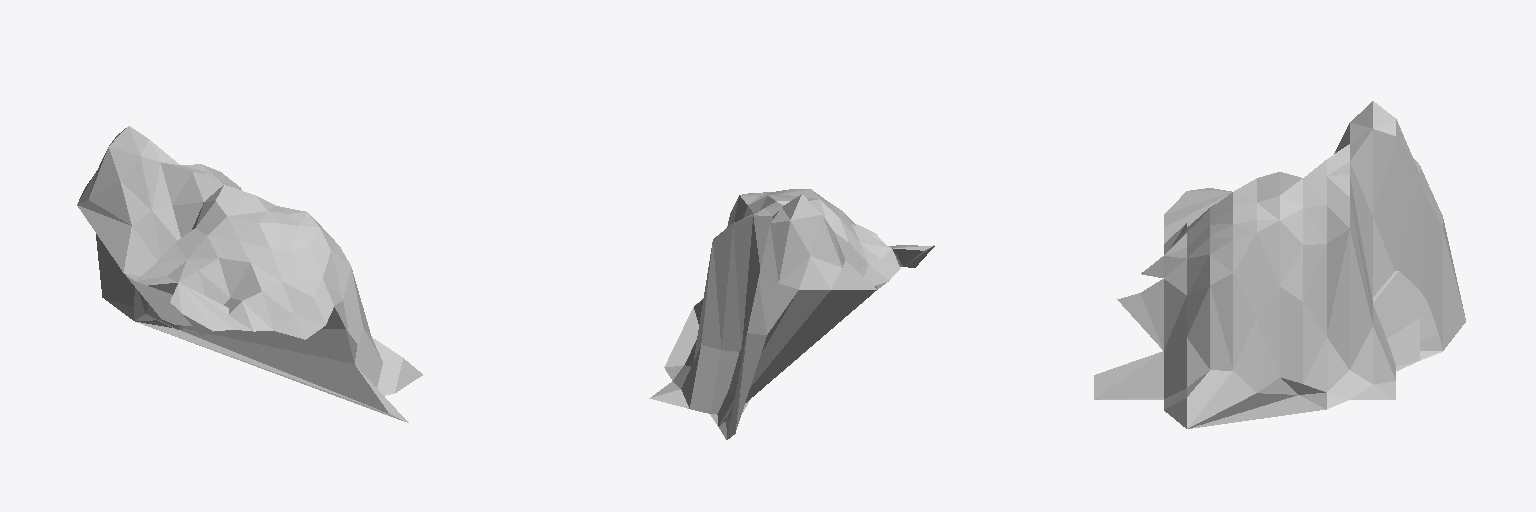
Rendered from tree_57.obj.
3 renders of one model, left to right at view 1: azimuth 30°, elevation 25°; view 2: azimuth 150°, elevation 25°; view 3: azimuth 270°, elevation 25°, orthographic.
Visible parts, largest first — view 1: tree_57_minus_dtm; view 2: tree_57_minus_dtm; view 3: tree_57_minus_dtm.
Boxes of the visible parts, box(x1,y1,x2,y2) form: tree_57_minus_dtm: box(77, 126, 422, 422); tree_57_minus_dtm: box(649, 189, 934, 439); tree_57_minus_dtm: box(1094, 101, 1465, 428).
Bounding box in the file's own units: 12 × 10.99 × 16.